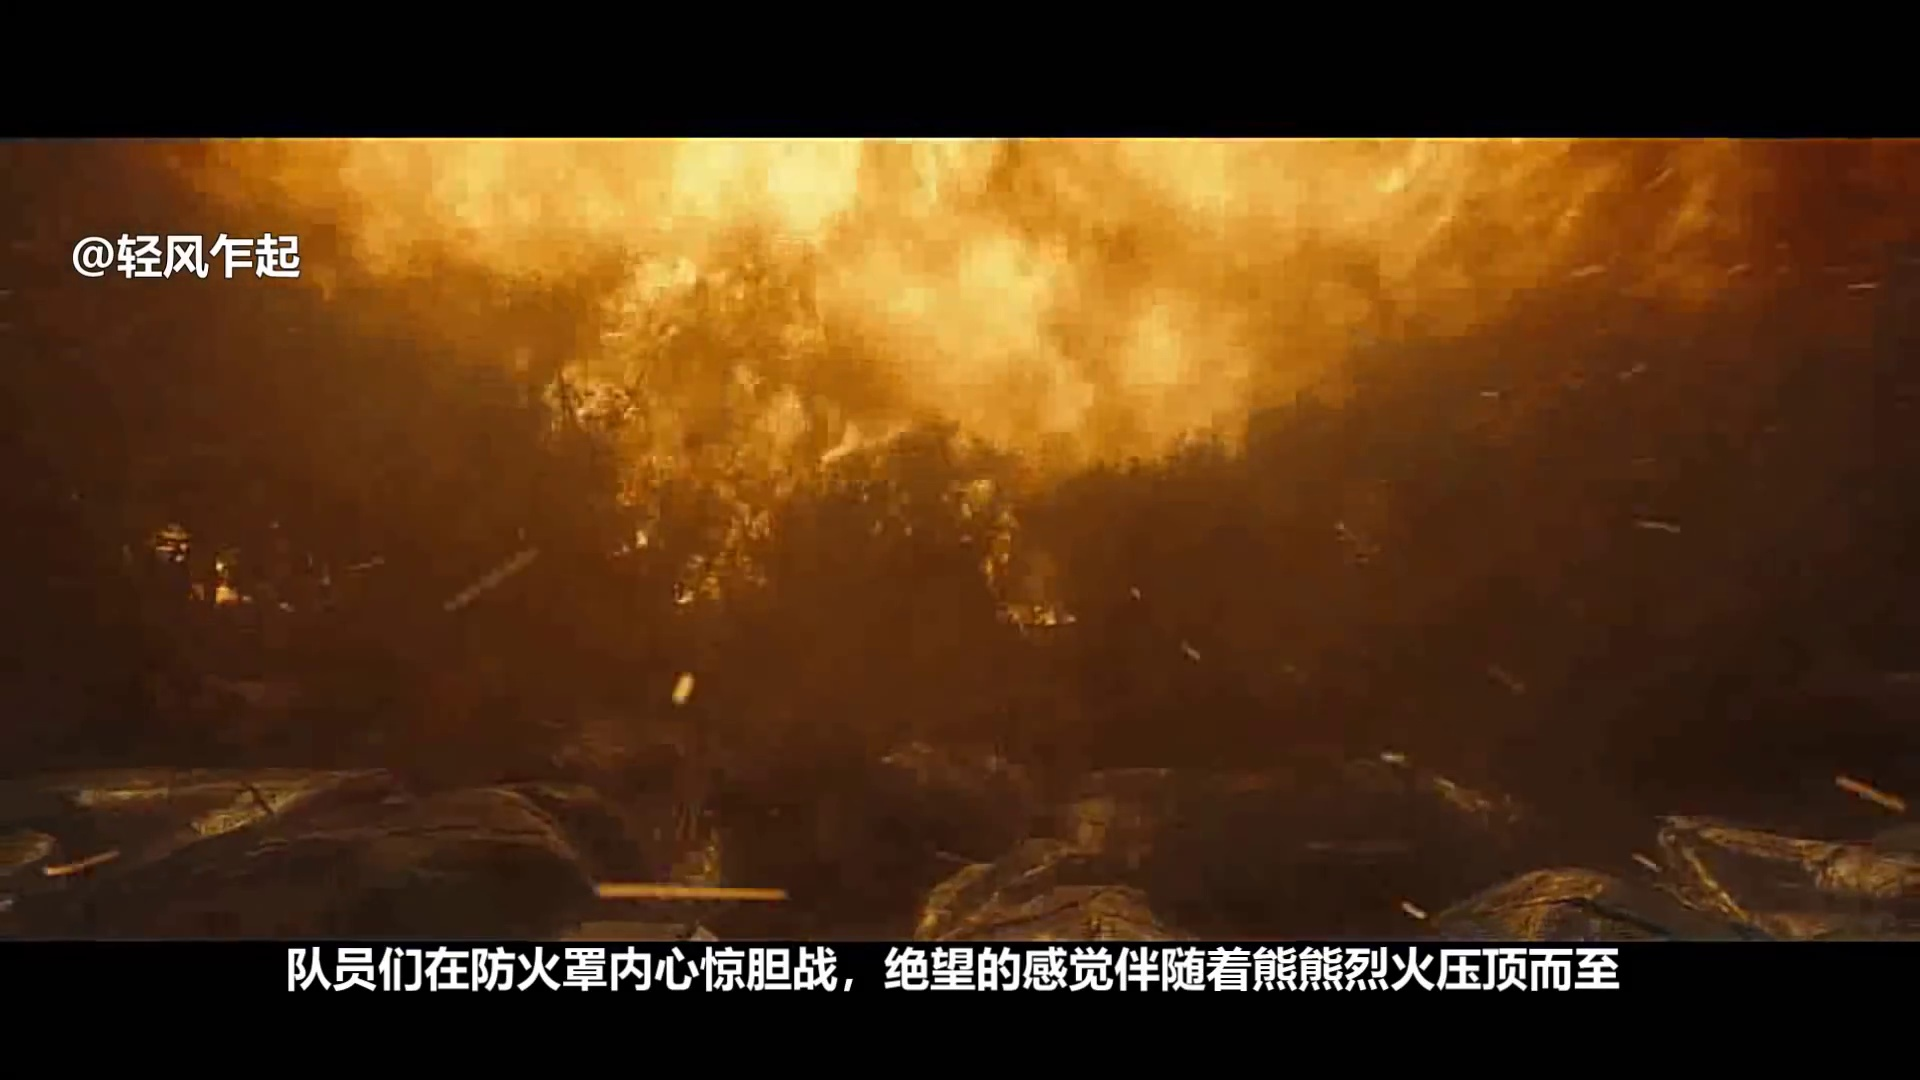fire: (377, 149, 1548, 332)
